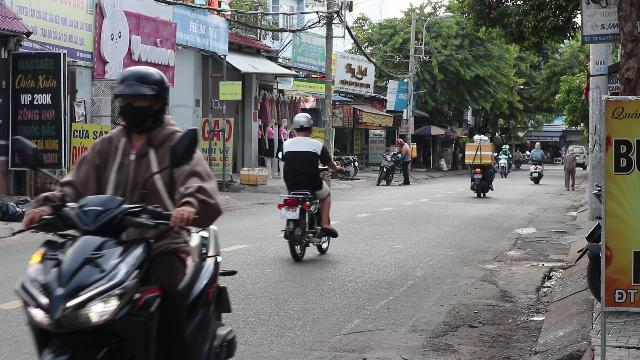helmet: (108, 64, 170, 128), (290, 112, 314, 136)
licenseplate: (281, 208, 299, 218)
motorcyclist: (12, 63, 245, 357), (274, 113, 338, 262)
